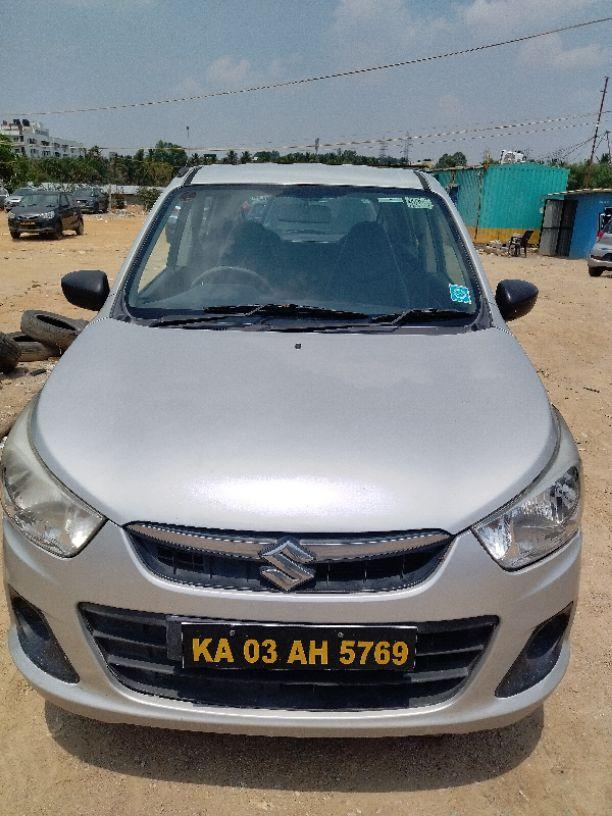license_plate: (177, 621, 418, 673)
